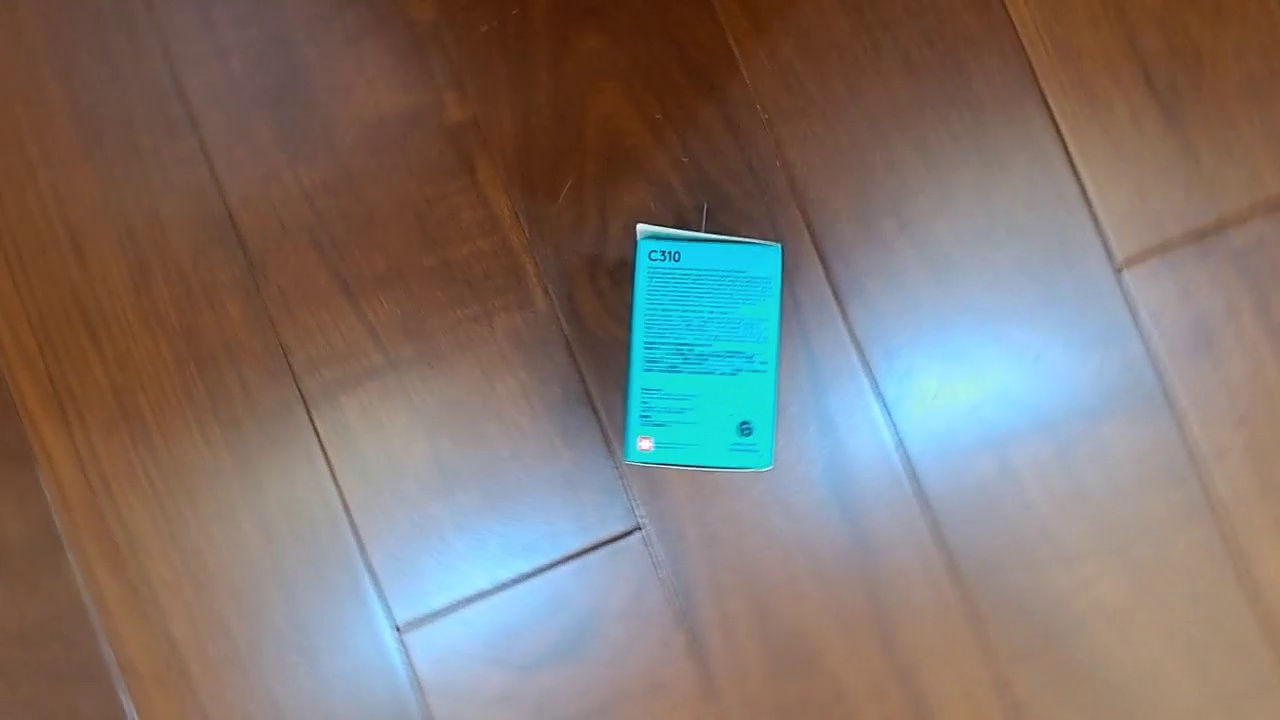webcam: (620, 218, 785, 474)
